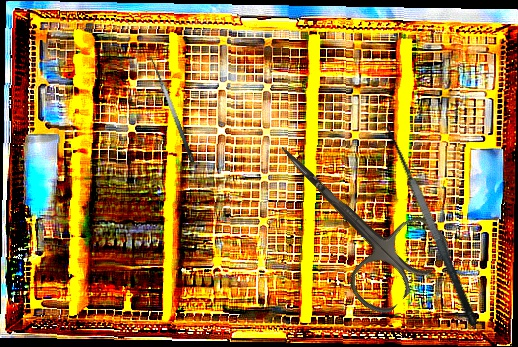Iris Scissors: (245, 109, 457, 322)
Spatula Surgical: (370, 121, 480, 334), (141, 53, 197, 167)
